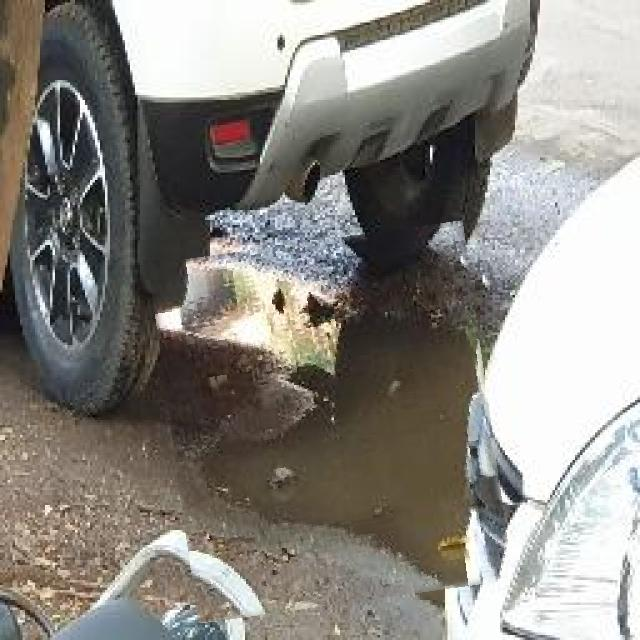puddle: (161, 231, 503, 614)
